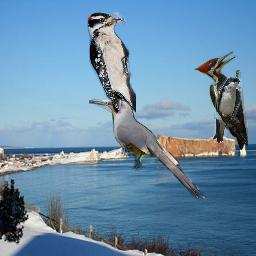Cuckoo: (89, 98, 206, 201)
Swallow: (213, 77, 242, 143)
Woodpecker: (194, 51, 248, 150), (87, 12, 136, 114)
